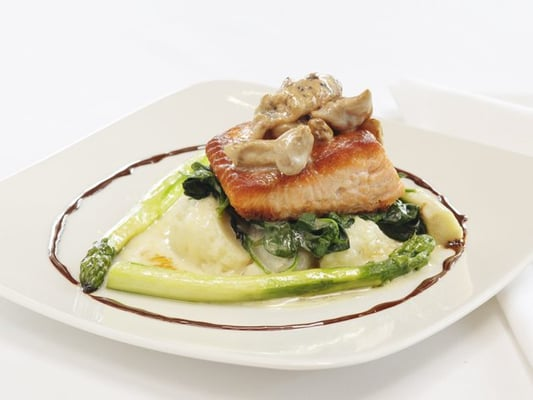soup: (203, 72, 466, 280)
